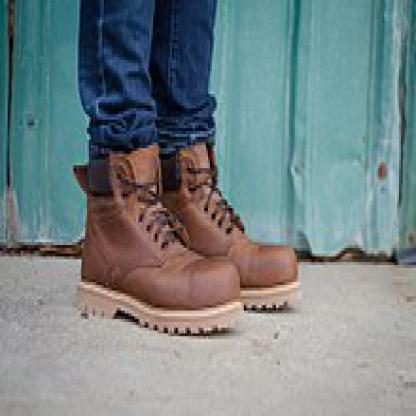bota: (66, 144, 303, 335)
